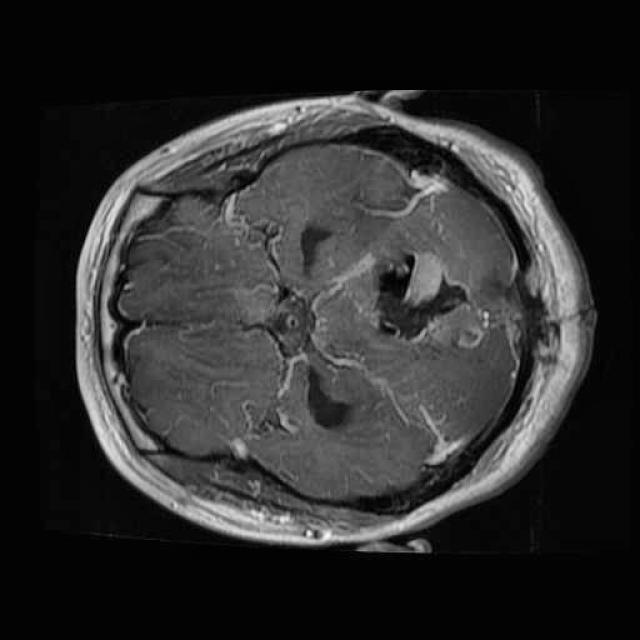Tumor: (364, 245, 476, 350)
